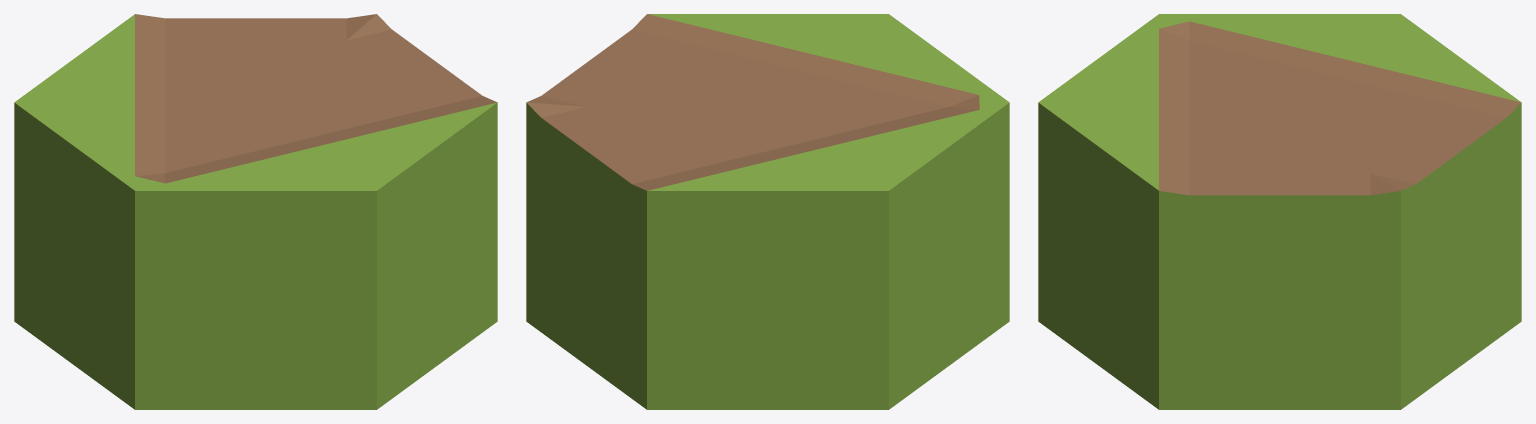
Rendered from road3.fbx.
3 renders of one model, left to right at view 1: azimuth 30°, elevation 25°; view 2: azimuth 150°, elevation 25°; view 3: azimuth 270°, elevation 25°, orthographic.
Parts seen in each view (by area): view 1: Cylinder; view 2: Cylinder; view 3: Cylinder.
Part boxes in pixels (x1,y1,x2,y2): Cylinder: (14,14,497,409); Cylinder: (526,14,1009,409); Cylinder: (1038,14,1521,409).
Bounding box in the file's own units: 1.73 × 1 × 2.
